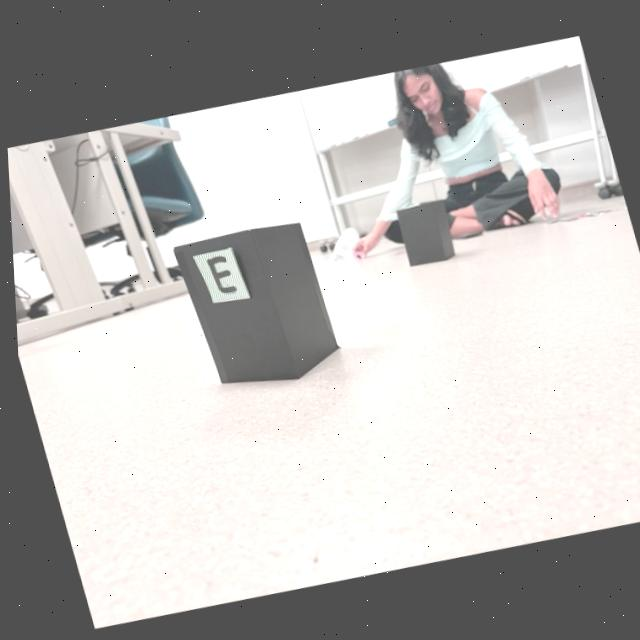E: (203, 255, 234, 292)
